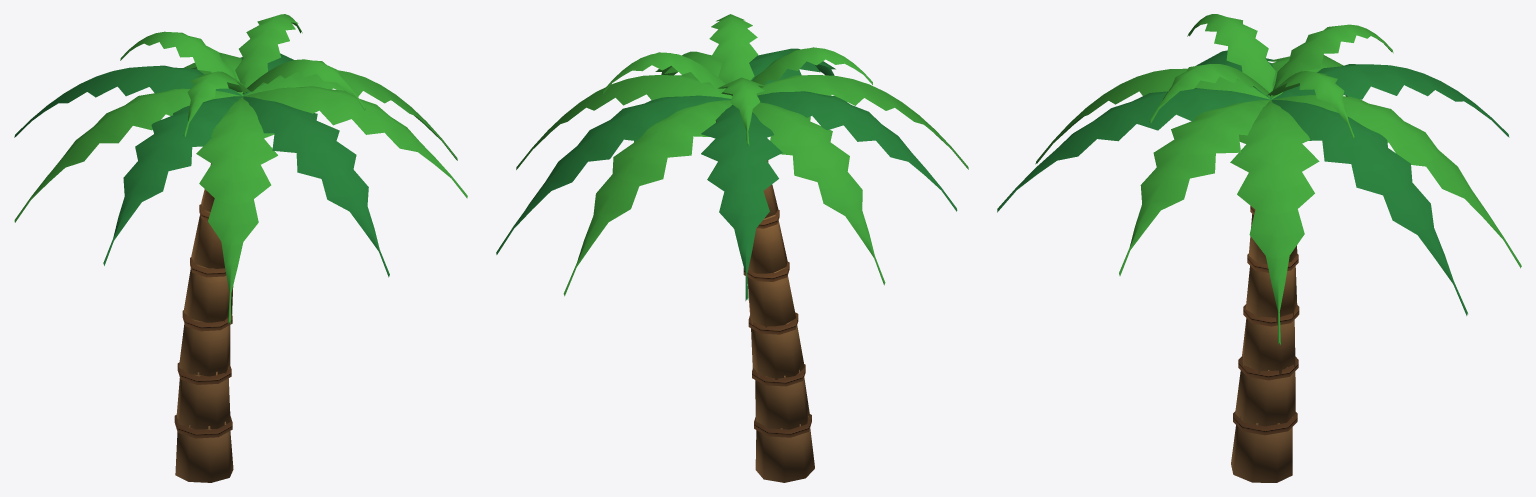
Rendered from palm.glb.
3 views of the same model, side by side, from view 1: azimuth 30°, elevation 25°; view 2: azimuth 150°, elevation 25°; view 3: azimuth 270°, elevation 25° (orthographic). The views are drawn at different scales.
Visible parts, largest first — view 1: Frond.006, Frond.007, Frond.005, Frond.008, Frond.004, Frond.003, Trunk segment, Trunk segment.001, Crown frond, Trunk segment.002, Frond, Trunk segment.003 (+6 smaller); view 2: Frond.003, Frond.002, Frond.004, Frond.001, Frond.005, Frond, Frond.006, Trunk segment, Trunk segment.001, Crown frond.003, Trunk segment.002, Trunk segment.003 (+7 smaller); view 3: Frond, Frond.001, Frond.008, Frond.007, Frond.002, Frond.003, Trunk segment, Trunk segment.001, Crown frond.002, Frond.006, Trunk segment.002, Crown frond.001 (+5 smaller).
Part boxes in pixels (x1,y1,x2,y2): Frond.006: (196, 97, 277, 324); Frond.007: (243, 96, 389, 277); Frond.005: (103, 96, 242, 265); Frond.008: (244, 86, 467, 198); Frond.004: (14, 88, 241, 222); Frond.003: (14, 65, 242, 137); Trunk segment: (175, 419, 233, 482); Trunk segment.001: (176, 367, 230, 429); Crown frond: (235, 14, 302, 88); Trunk segment.002: (179, 314, 230, 376); Frond: (244, 70, 457, 160); Trunk segment.003: (183, 260, 233, 322); Frond.003: (701, 105, 782, 300); Frond.002: (563, 100, 732, 296); Frond.004: (752, 102, 885, 285); Frond.001: (496, 95, 731, 254); Frond.005: (757, 91, 957, 211); Frond: (516, 75, 732, 169); Frond.006: (756, 75, 968, 169); Trunk segment: (755, 415, 814, 482); Trunk segment.001: (755, 370, 809, 429); Crown frond.003: (709, 14, 758, 84); Trunk segment.002: (751, 321, 804, 379); Trunk segment.003: (747, 267, 795, 327); Frond: (1230, 100, 1319, 344); Frond.001: (1271, 100, 1467, 315); Frond.008: (1119, 100, 1270, 275); Frond.007: (997, 88, 1270, 212); Frond.002: (1272, 95, 1521, 268); Frond.003: (1272, 64, 1509, 137); Trunk segment: (1231, 416, 1292, 482); Trunk segment.001: (1235, 356, 1295, 426); Crown frond.002: (1187, 14, 1275, 97); Frond.006: (1035, 68, 1270, 164); Trunk segment.002: (1242, 318, 1295, 374); Crown frond.001: (1271, 24, 1393, 97).
Size of the model in its own units: 5.19 by 5.05 by 5.35.
Materials: 5 (5 with a texture image).
